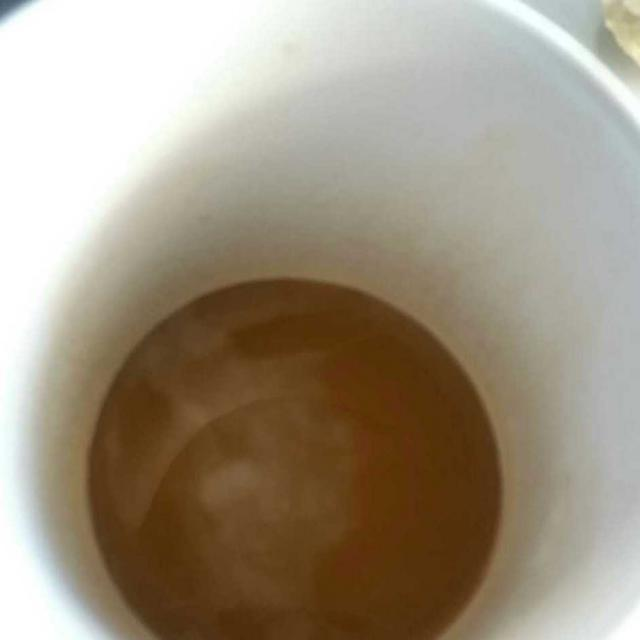coffee: (84, 274, 503, 627)
